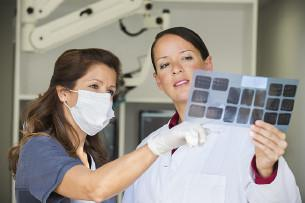NONE: (156, 45, 202, 99)
OK: (70, 76, 118, 135)
